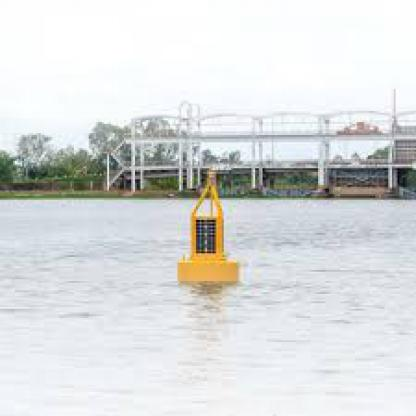buoy: (174, 163, 244, 290)
